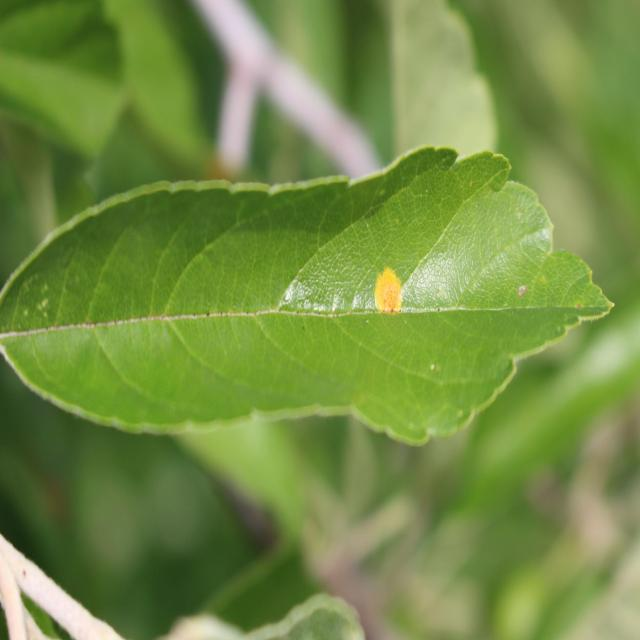Rust: (361, 256, 413, 335)
